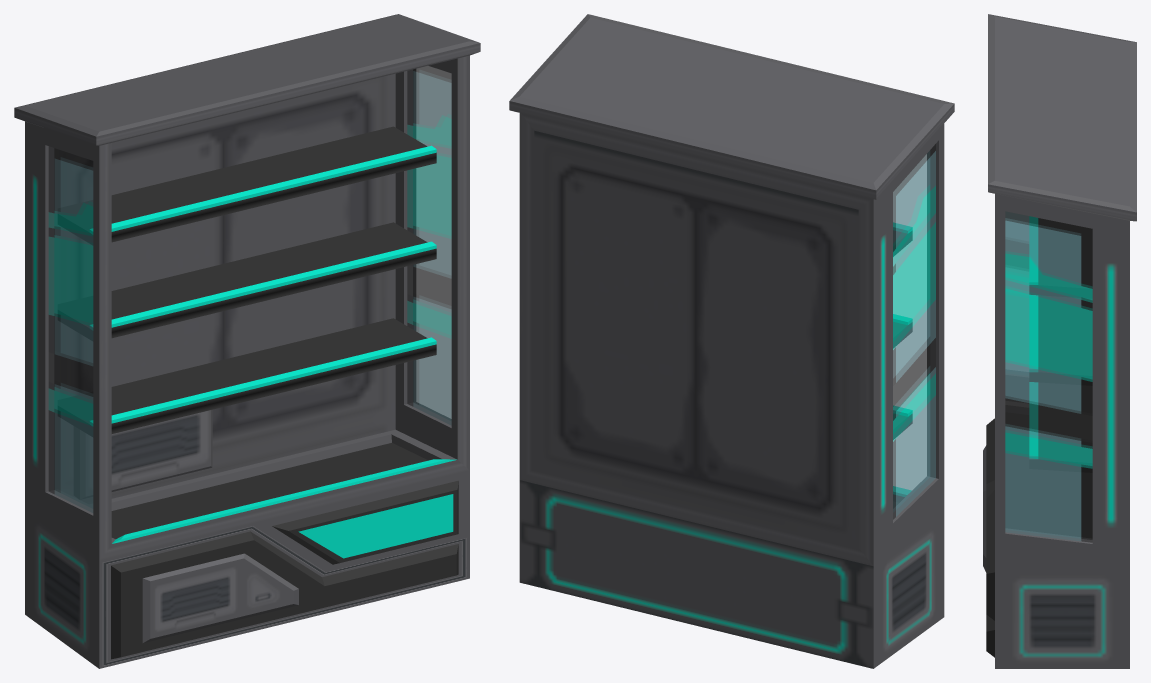
Rendered from SM_Prop_Food_Shelf_01.fbx.
3 views of the same model, side by side, from view 1: azimuth 30°, elevation 25°; view 2: azimuth 150°, elevation 25°; view 3: azimuth 270°, elevation 25° (orthographic). The views are drawn at different scales.
Visible parts, largest first — view 1: SM_Prop_Food_Shelf_01; view 2: SM_Prop_Food_Shelf_01; view 3: SM_Prop_Food_Shelf_01.
Part boxes in pixels (x1,y1,x2,y2): SM_Prop_Food_Shelf_01: (14, 14, 480, 668); SM_Prop_Food_Shelf_01: (509, 14, 954, 668); SM_Prop_Food_Shelf_01: (983, 14, 1136, 668).
Size of the model in its own units: 189 by 252 by 71.99.
